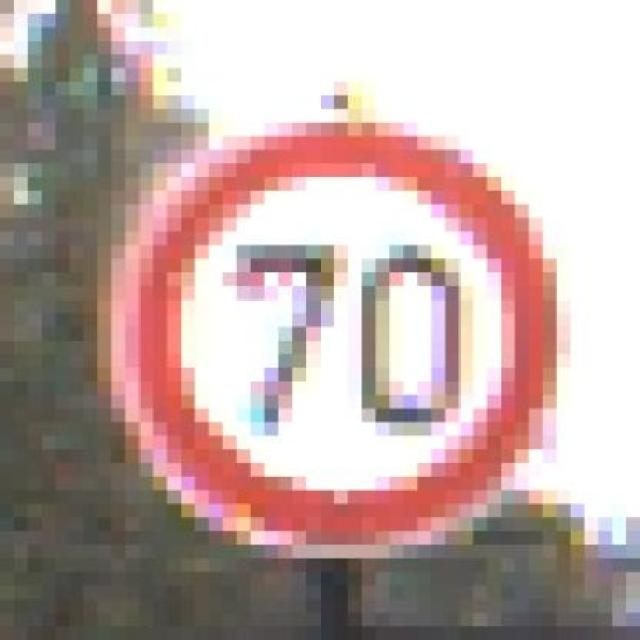forb_speed_over_70: (122, 121, 558, 554)
